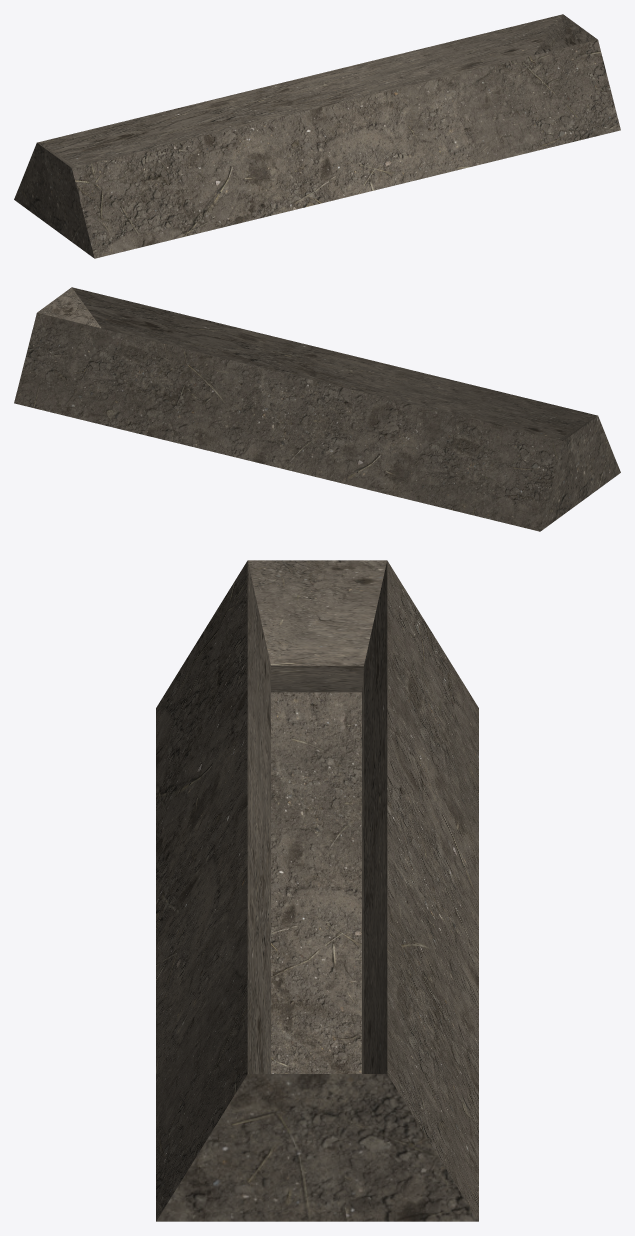
Rendered from Ditch11.fbx.
3 renders of one model, top to bottom at view 1: azimuth 30°, elevation 25°; view 2: azimuth 150°, elevation 25°; view 3: azimuth 270°, elevation 25°, orthographic. The views are drawn at different scales.
Parts seen in each view (by area): view 1: Cube; view 2: Cube; view 3: Cube.
Boxes of the visible parts, x1,y1,x2,y2 form: Cube: (14,14,620,258); Cube: (14,287,620,531); Cube: (156,560,478,1221).
Size of the model in its own units: 1600 by 215 by 425.
1 material, 1 textured.
